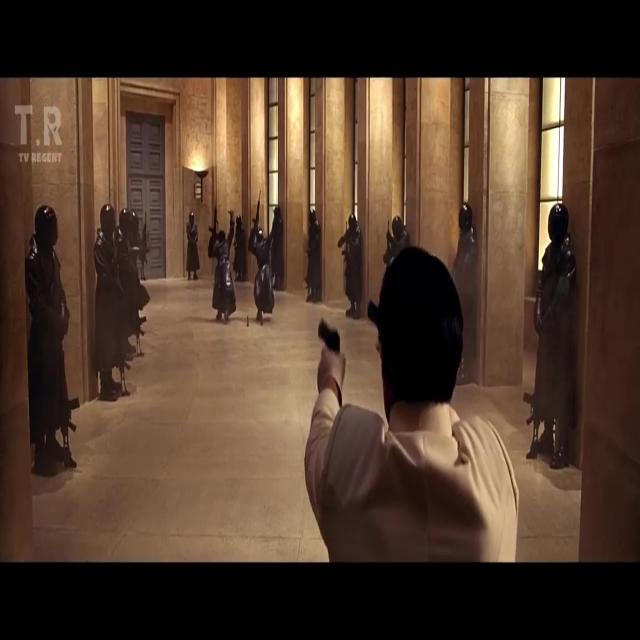Weapon: (314, 311, 346, 387)
